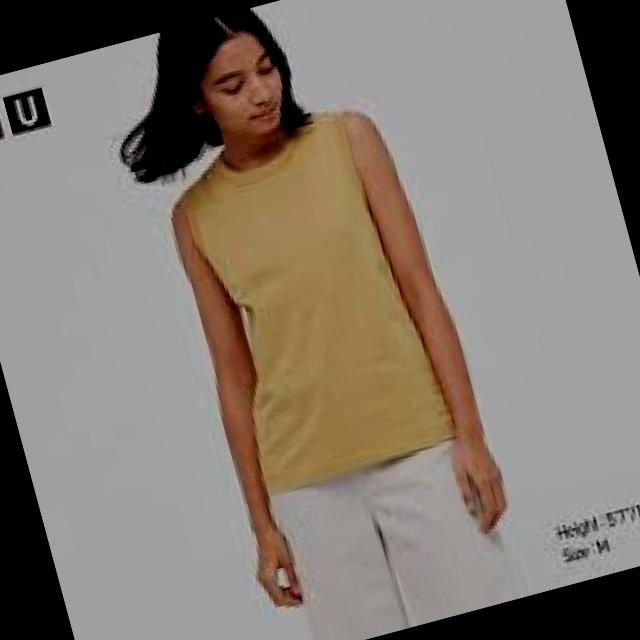no_vest: (166, 95, 461, 498)
